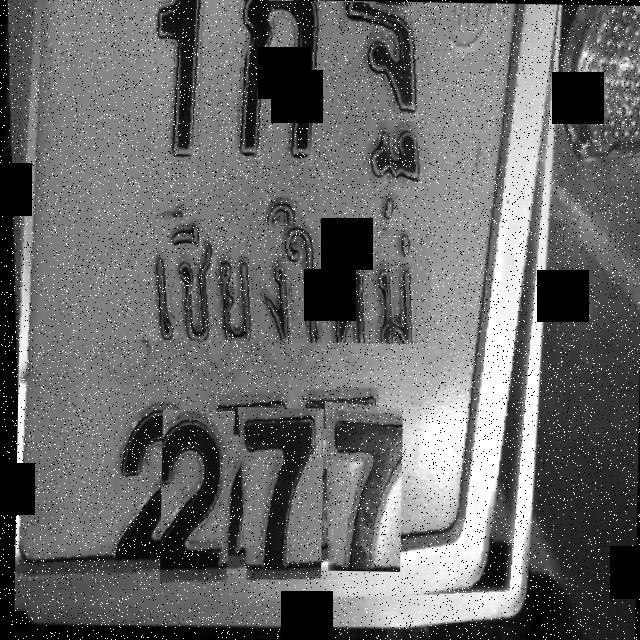letters: (332, 0, 432, 188), (228, 0, 334, 167), (235, 406, 324, 582), (322, 402, 403, 572), (160, 410, 234, 584), (146, 0, 223, 163)
license-plate: (14, 0, 558, 613)
province: (114, 212, 432, 344)
